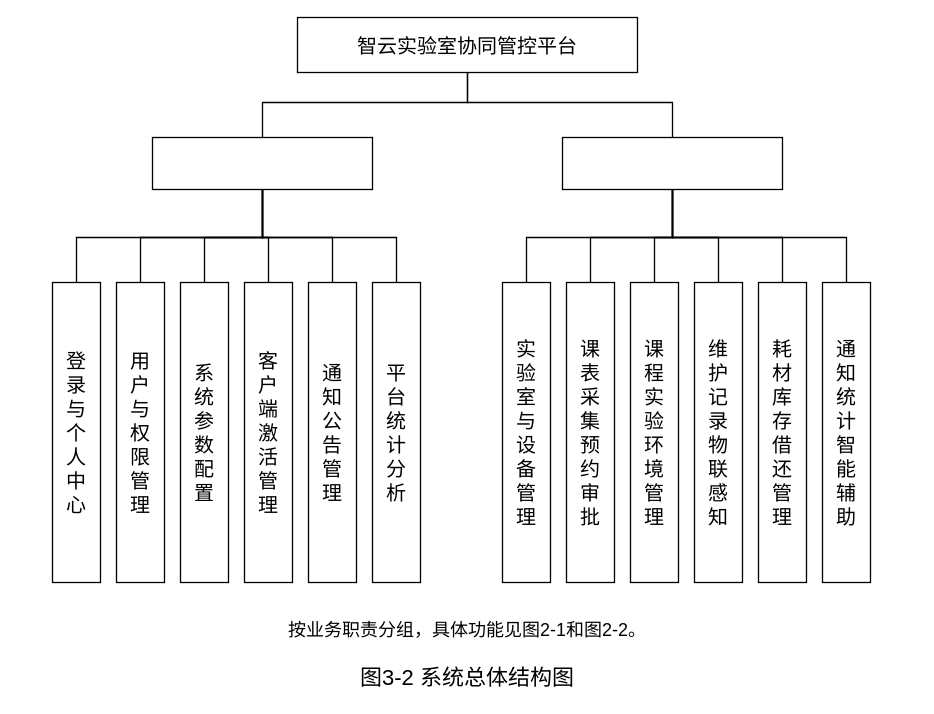
Some shapes in this 934 by 714 pixel diagram are drawn without their labels. The centre of each missing label's shape, as x and y in pixels:
"实验室管理员" belongs at [672,163].
"系统管理员" belongs at [262,163].
